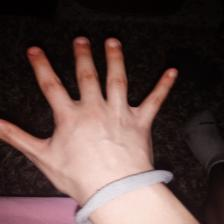five: (2, 37, 177, 194)
